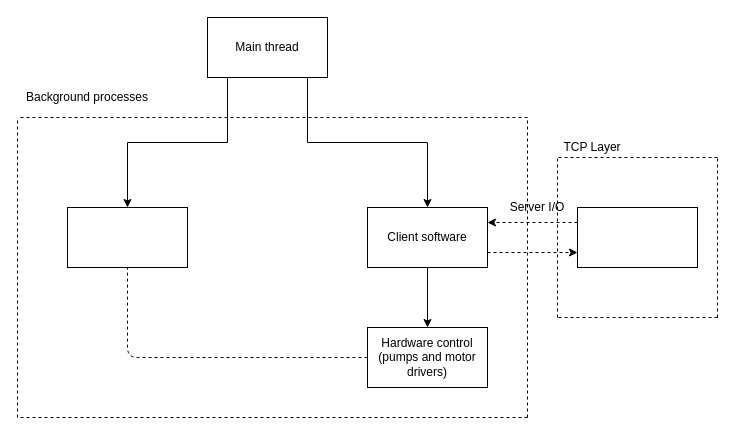
Some shapes in this 736 by 436 pixel diagram are drawn without their labels. The box of each missing label's shape, as (x1, y1, x2, y2) in pixels:
Sensor logging software: (66, 206, 188, 268)
TCP Server: (576, 206, 698, 268)
